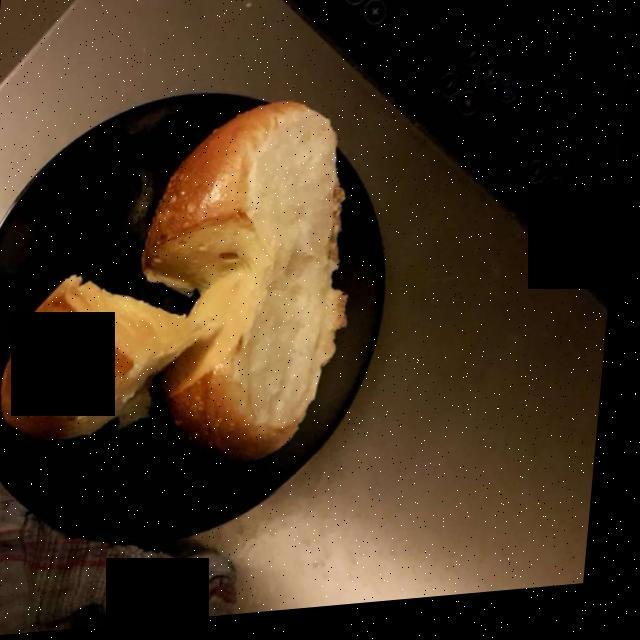bread: (15, 111, 347, 460)
